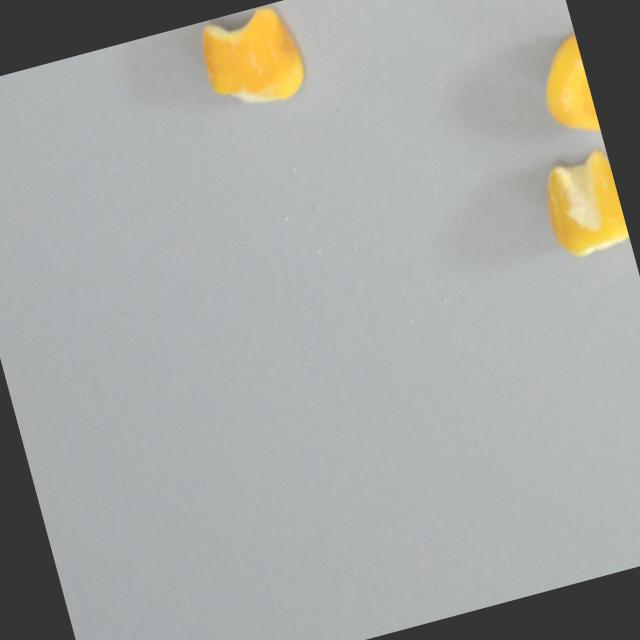no_canjicado: (190, 1, 309, 119), (531, 147, 630, 262)
pelicula: (527, 31, 601, 145)
